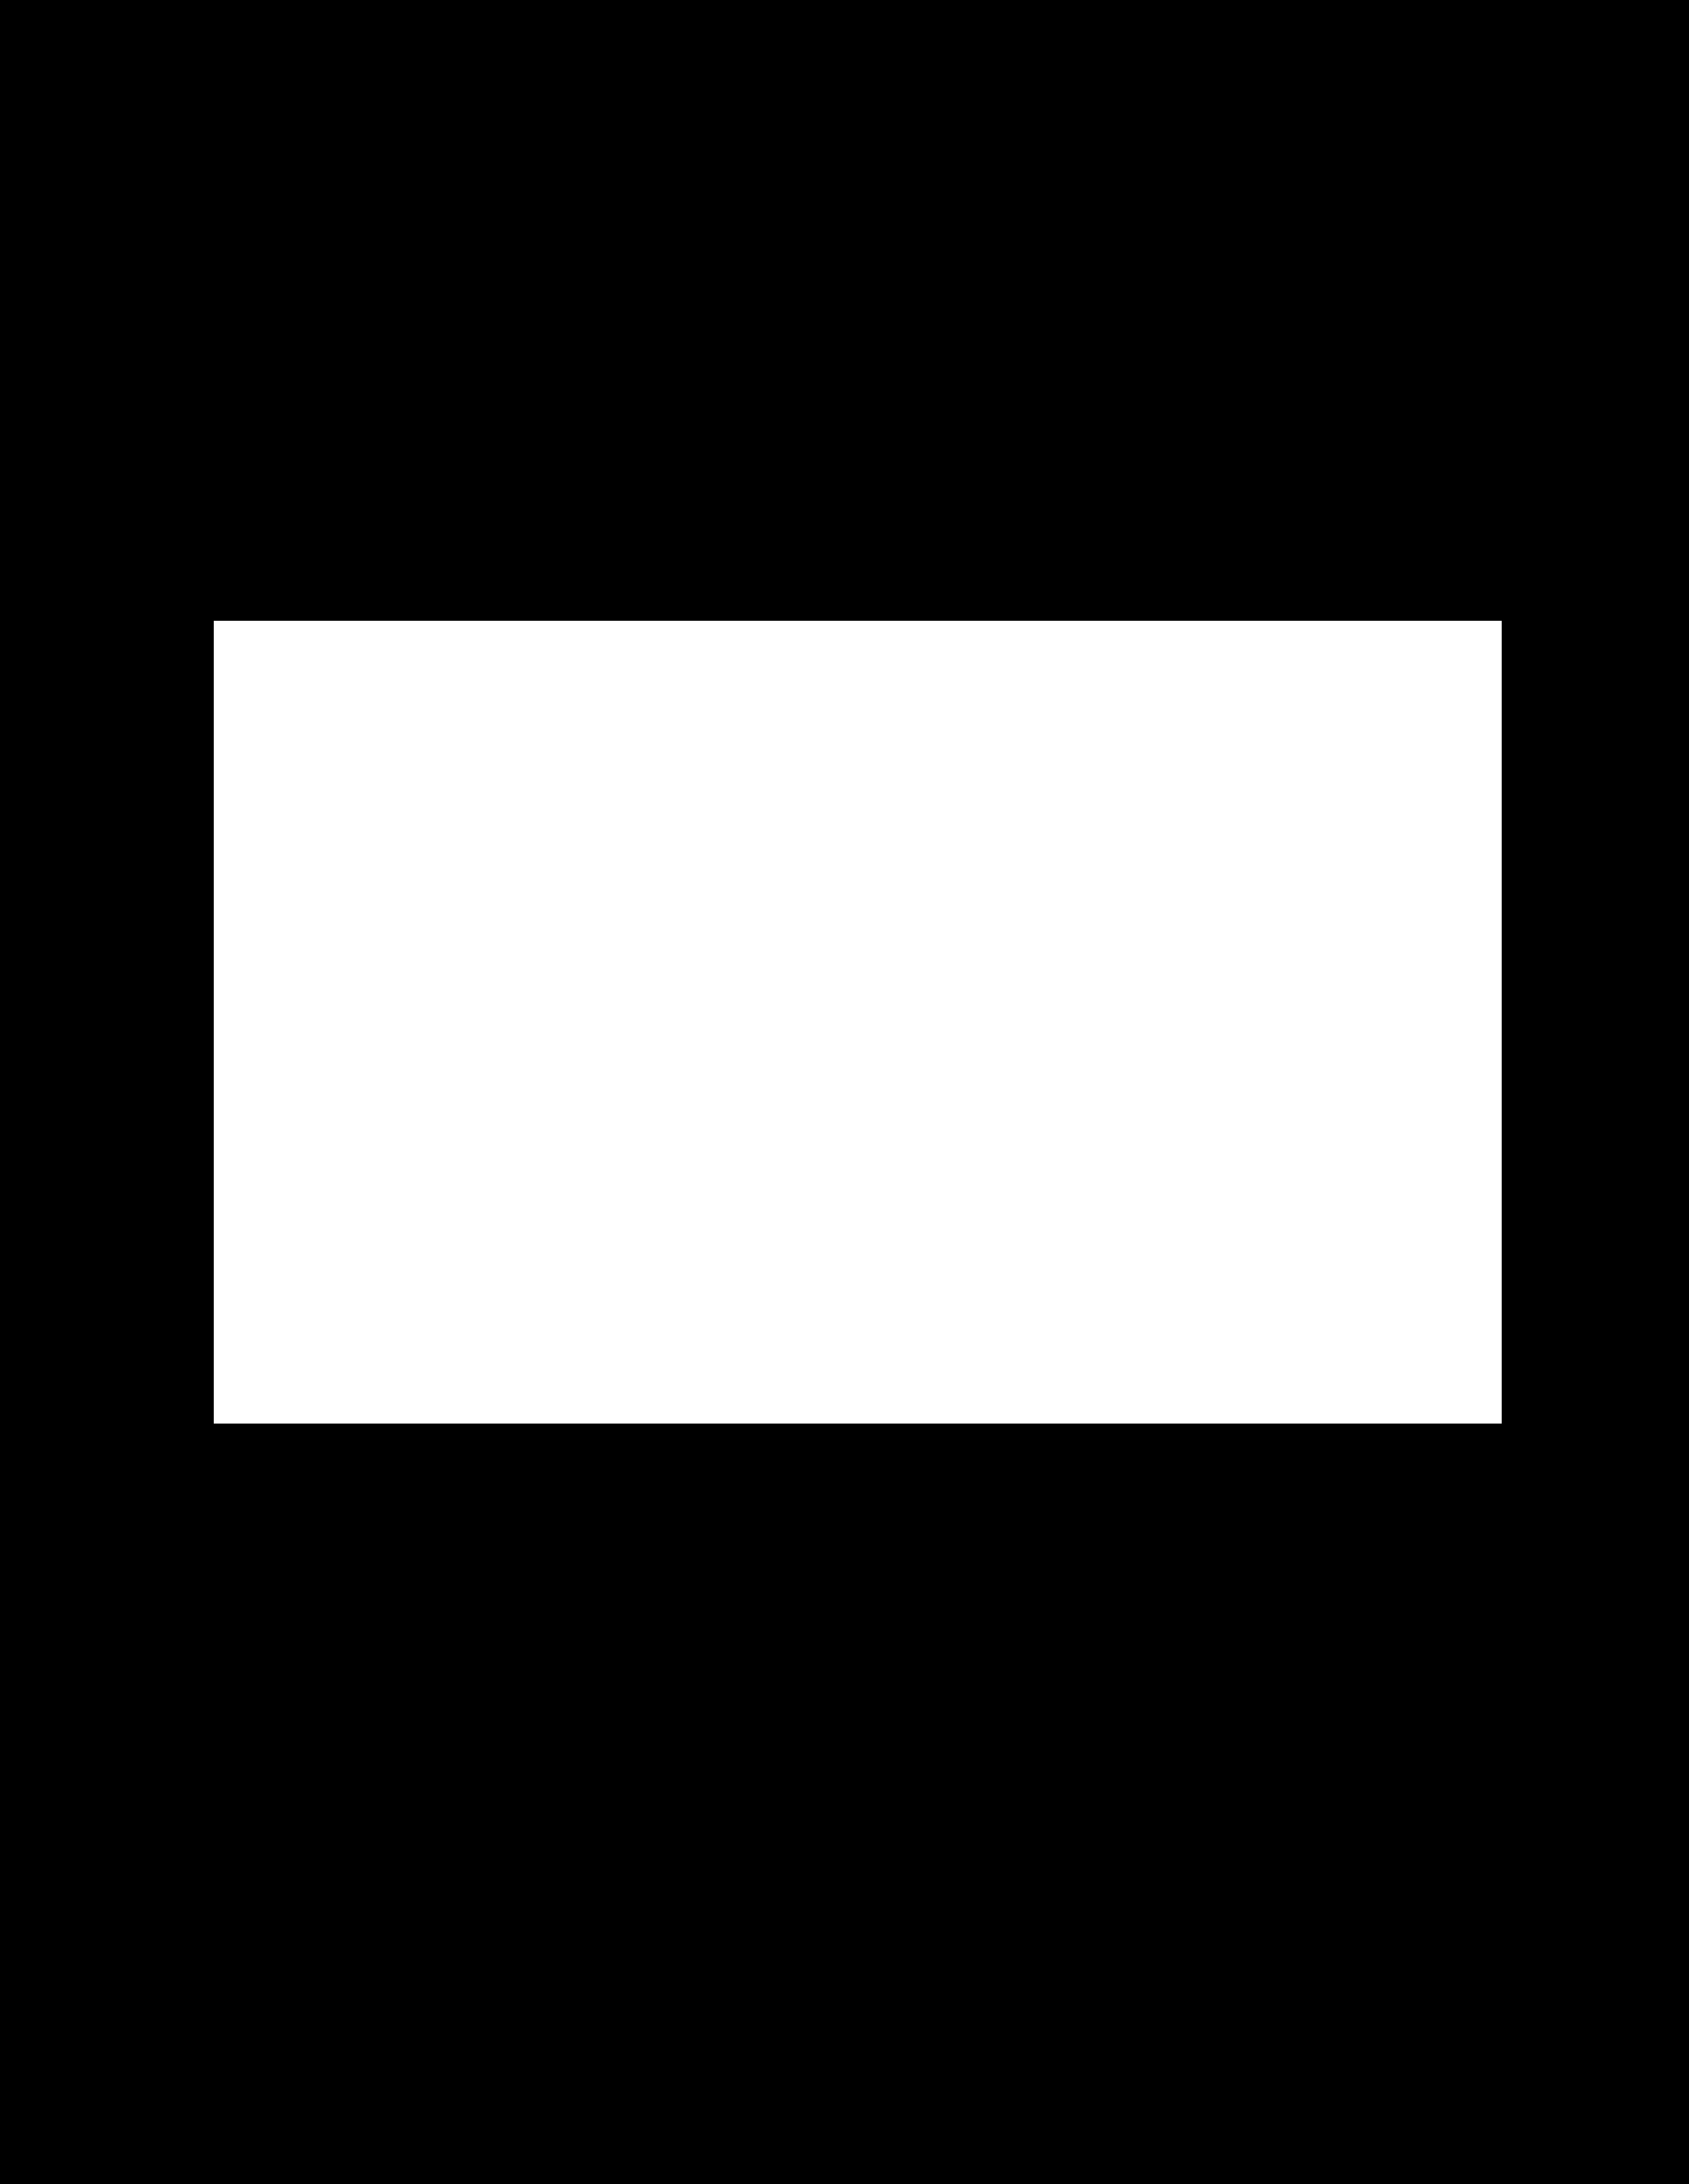table: (214, 620, 1501, 1423)
